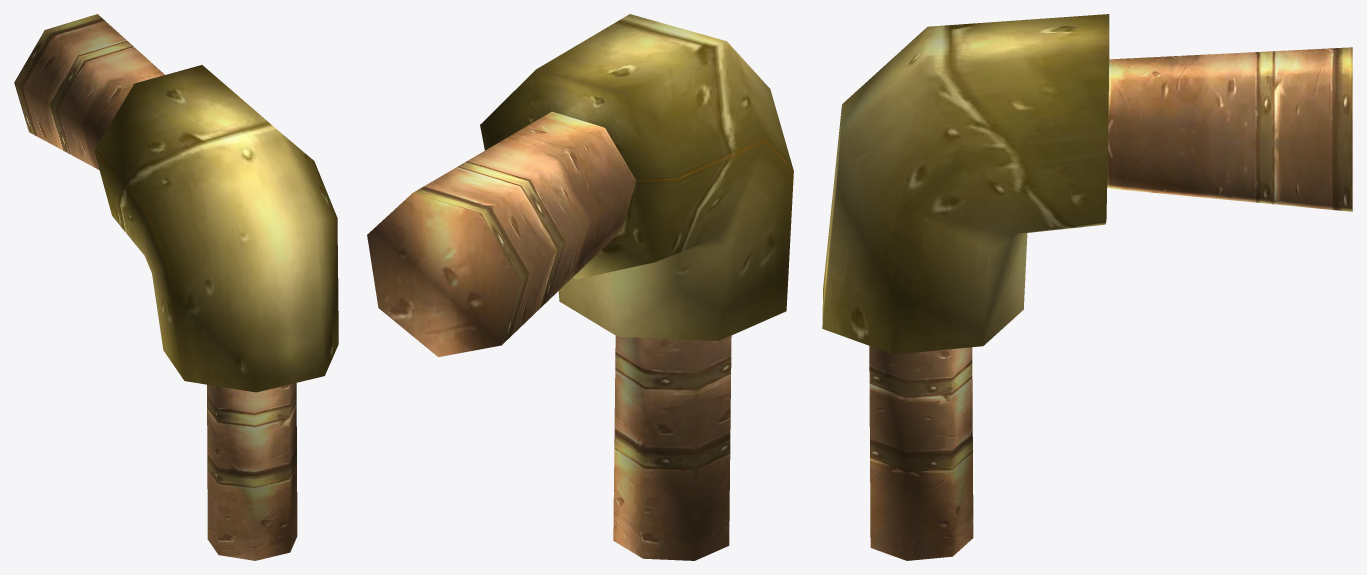
The model's file is gnome-pipe.glb.
3 views of the same model, side by side, from view 1: azimuth 30°, elevation 25°; view 2: azimuth 150°, elevation 25°; view 3: azimuth 270°, elevation 25° (orthographic). The views are drawn at different scales.
Parts seen in each view (by area): view 1: gnome-pipe_Geoset1, gnome-pipe_Geoset0; view 2: gnome-pipe_Geoset0, gnome-pipe_Geoset1; view 3: gnome-pipe_Geoset1, gnome-pipe_Geoset0.
Part boxes in pixels (x1,y1,x2,y2): gnome-pipe_Geoset1: [94, 65, 338, 392]; gnome-pipe_Geoset0: [14, 14, 297, 560]; gnome-pipe_Geoset0: [367, 111, 731, 560]; gnome-pipe_Geoset1: [480, 14, 793, 340]; gnome-pipe_Geoset1: [822, 14, 1109, 354]; gnome-pipe_Geoset0: [869, 47, 1352, 560].
Bounding box in the file's own units: 3.35 × 7.76 × 7.42.
Materials: 2 (2 with a texture image).
